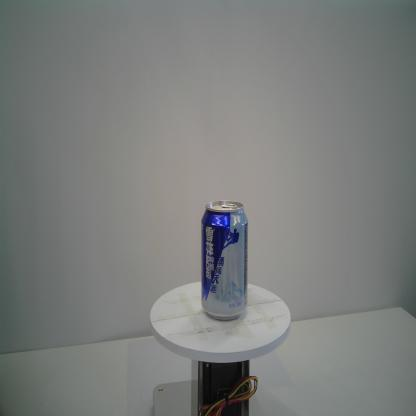Alcohol: (200, 199, 249, 322)
